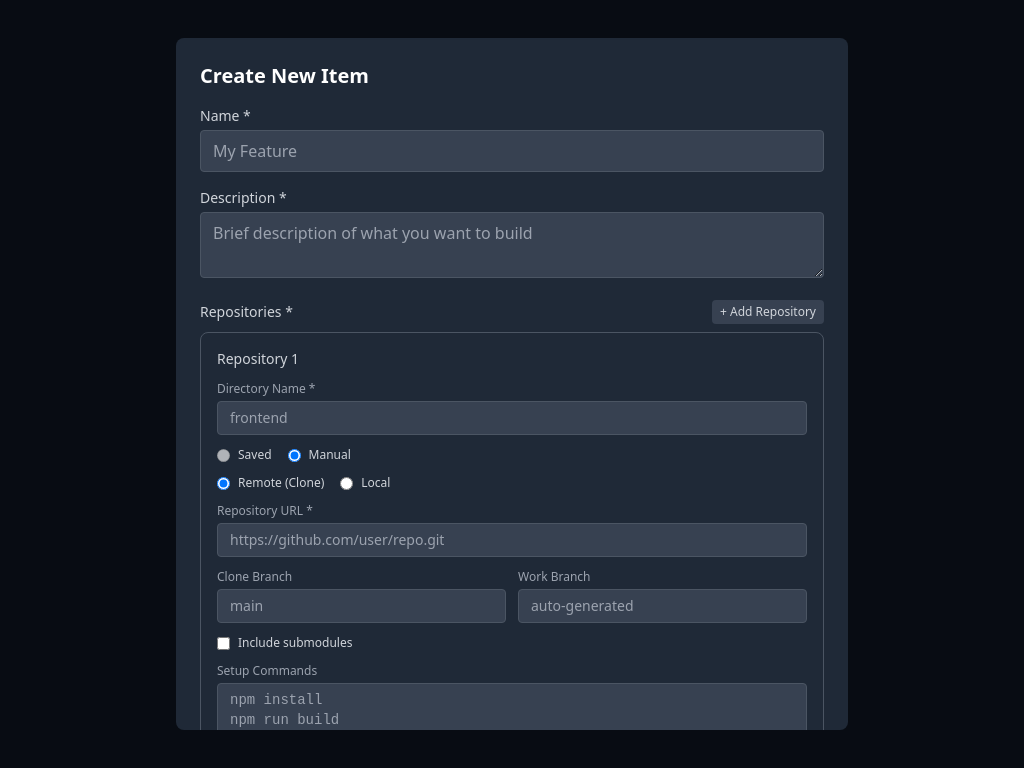
Test: CreateItemModal › hides setup commands textarea for manual + local repos
// Switch to local repo type
Click the radio button labelled "Local". click: (347, 483)
box: left=340, top=477, right=353, bottom=490
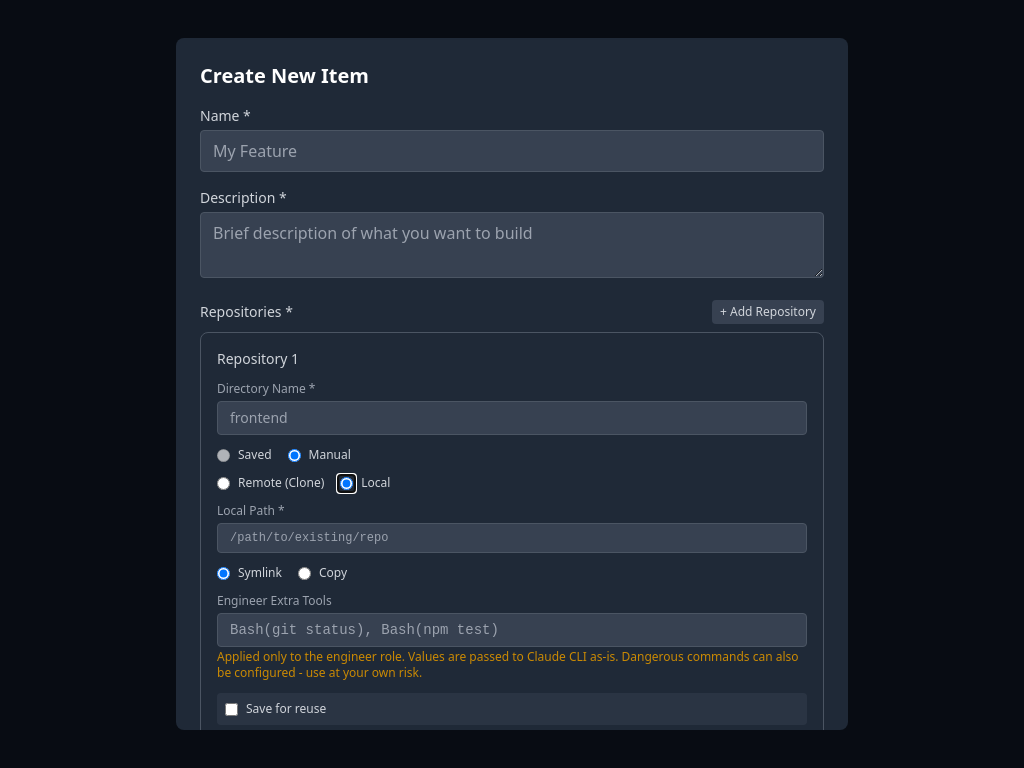
Check: the text "Setup Commands" is gone
